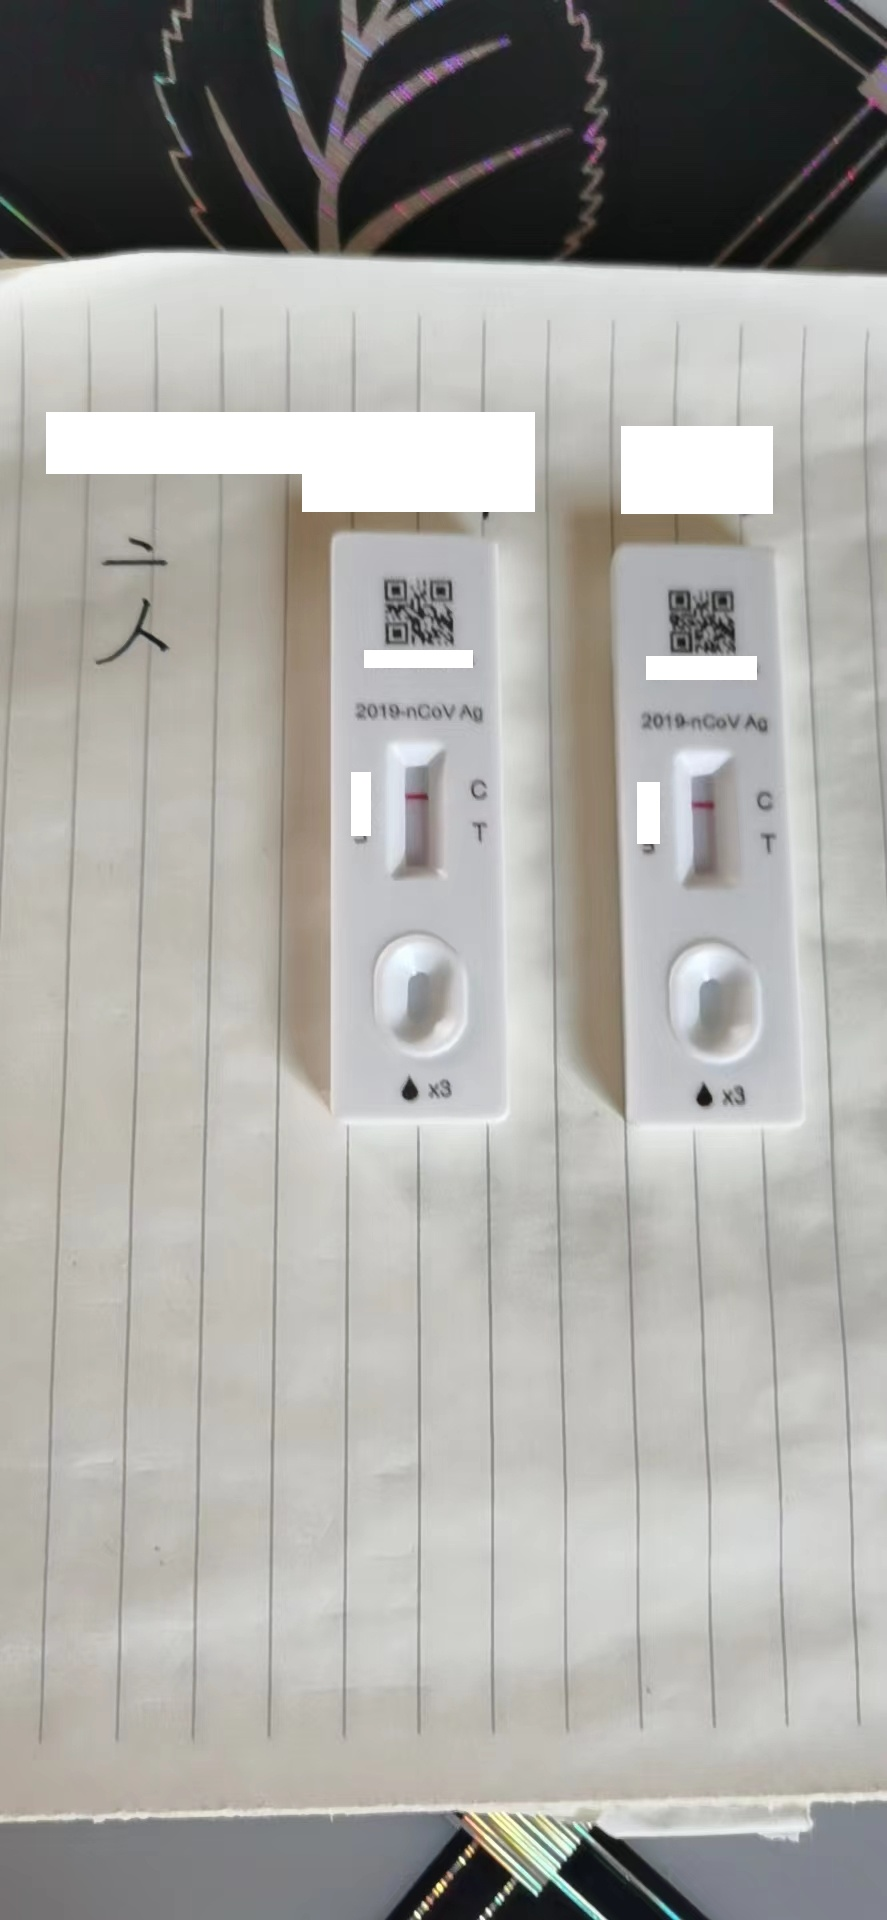negative: (383, 741, 448, 884), (675, 747, 736, 891)
